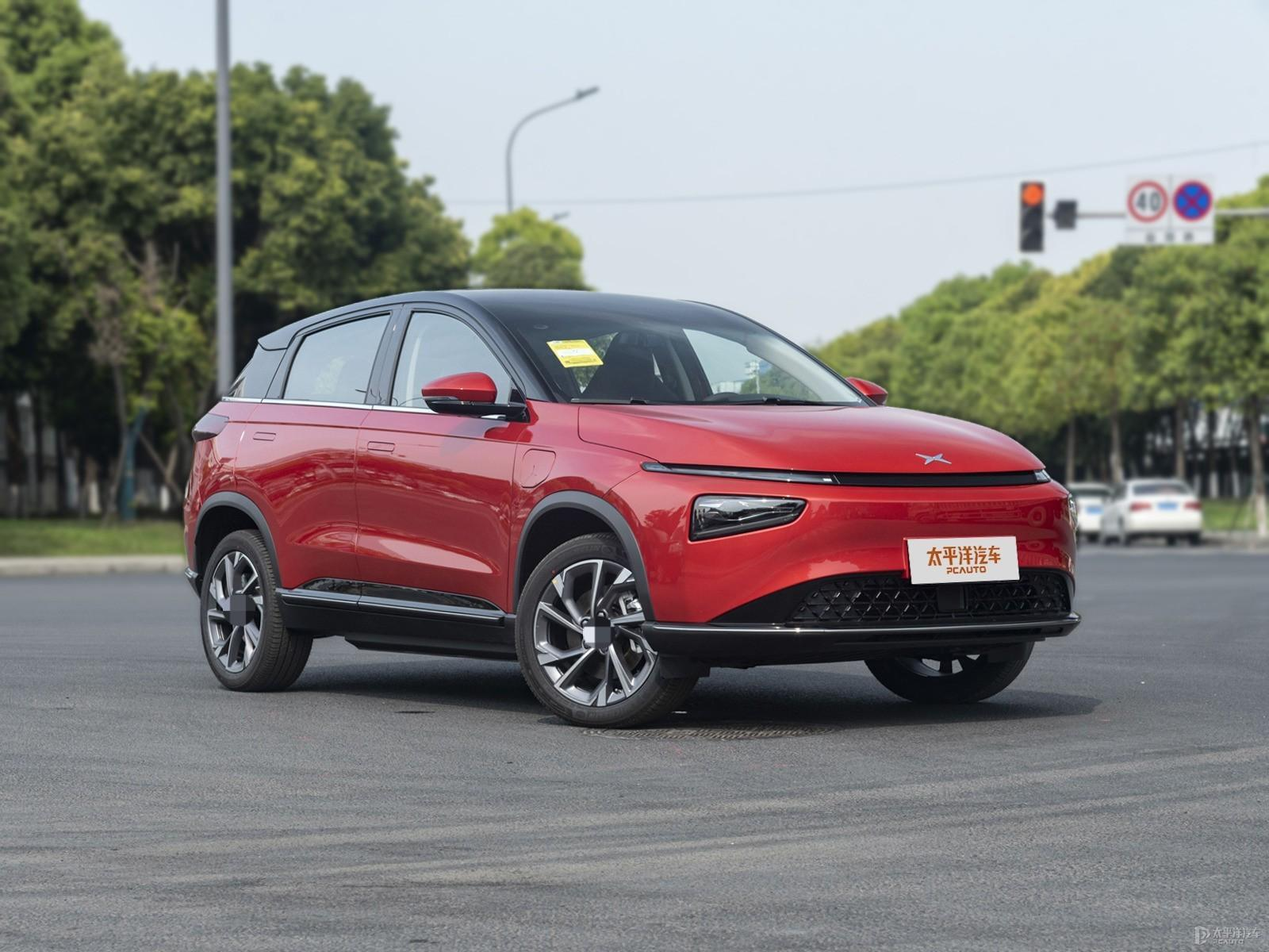XPeng Motors: (915, 453, 952, 465)
